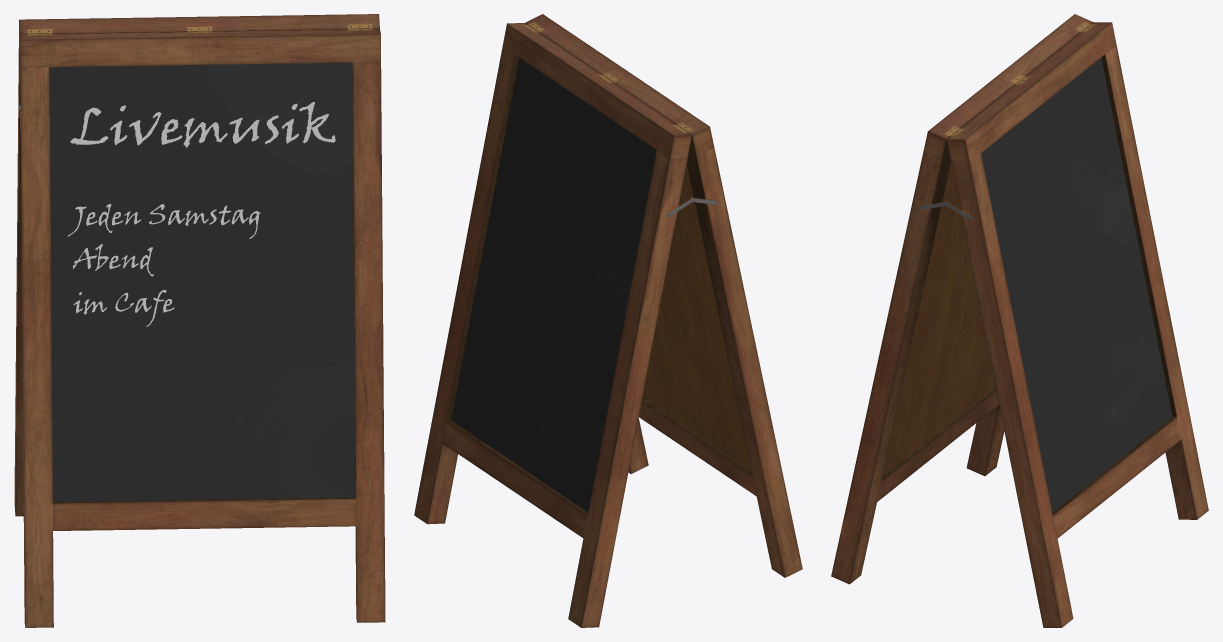
File: sign-music.glb
The picture shows the model from 3 angles, left to right: view 1: azimuth 30°, elevation 25°; view 2: azimuth 150°, elevation 25°; view 3: azimuth 270°, elevation 25°; orthographic projection. The views are drawn at different scales.
Visible parts, largest first — view 1: standing_chalkboard_01.002, Text.004; view 2: standing_chalkboard_01.002; view 3: standing_chalkboard_01.002.
Boxes of the visible parts, bbox=[...] form: standing_chalkboard_01.002: bbox=[14, 14, 385, 627]; Text.004: bbox=[68, 102, 335, 326]; standing_chalkboard_01.002: bbox=[414, 14, 802, 627]; standing_chalkboard_01.002: bbox=[831, 14, 1208, 627].
Size of the model in its own units: 1.16 by 1.51 by 1.1.
Materials: 2 (2 with a texture image).
